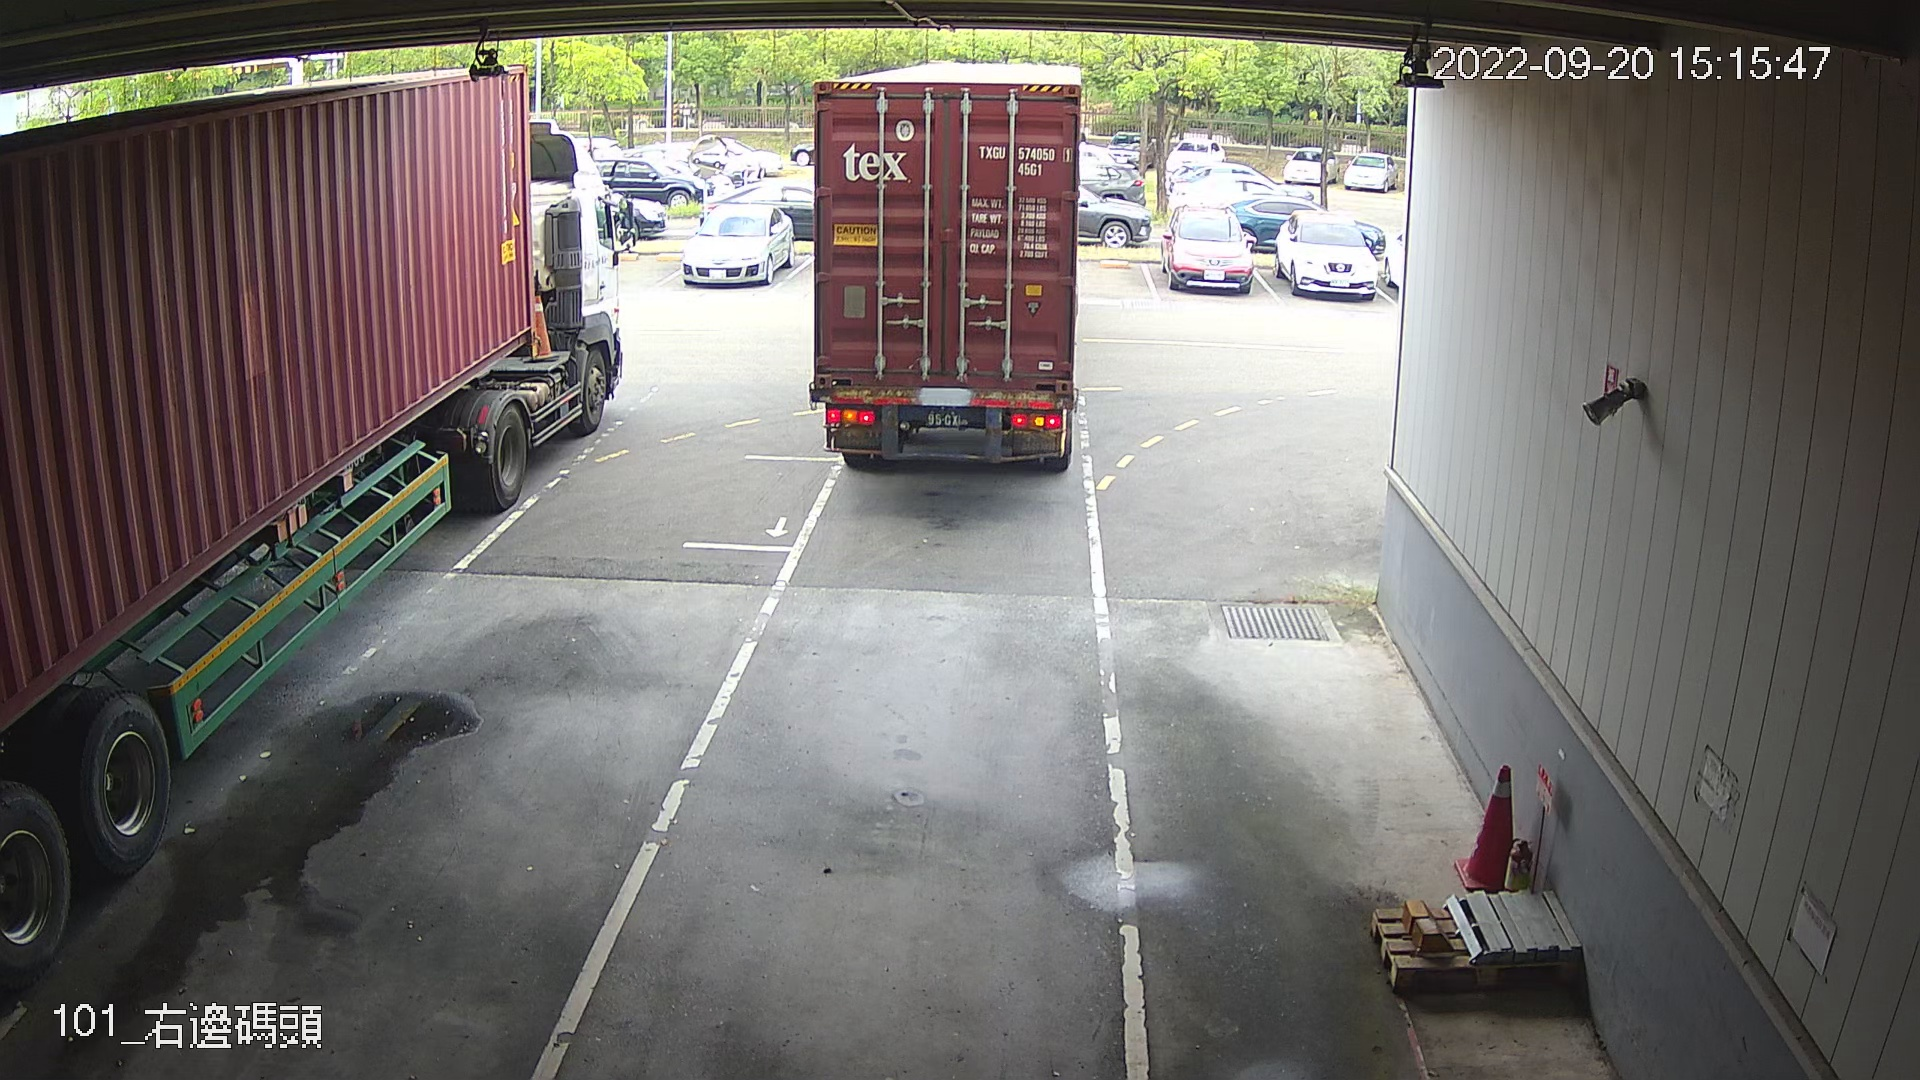container: (973, 136, 1075, 182)
